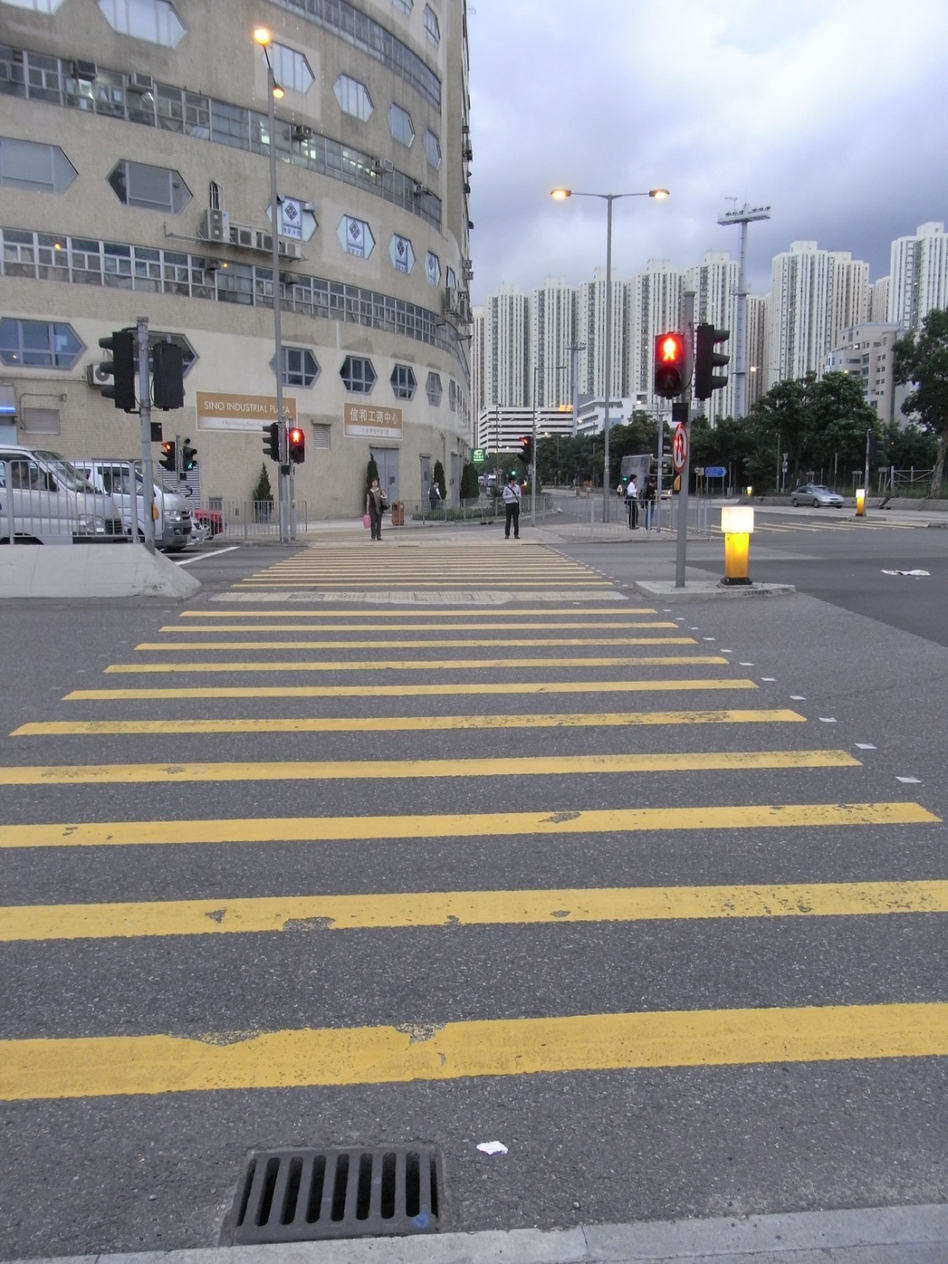pole: (654, 331, 689, 586), (137, 318, 155, 555)
